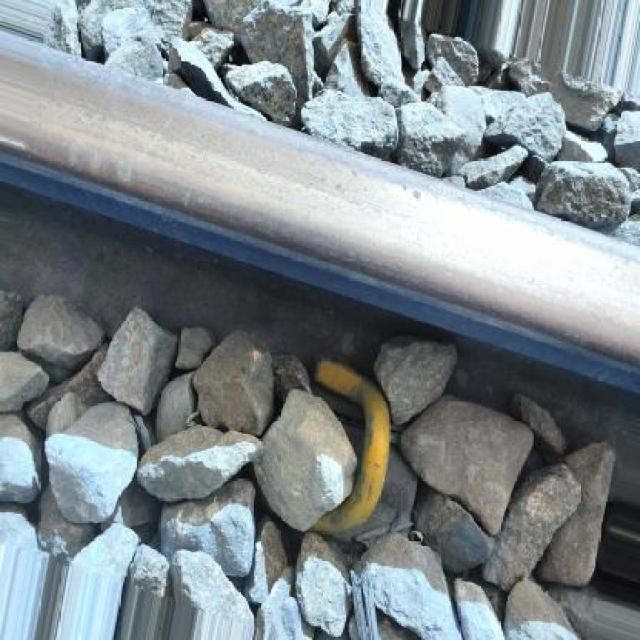non-defective: (3, 9, 640, 506)
